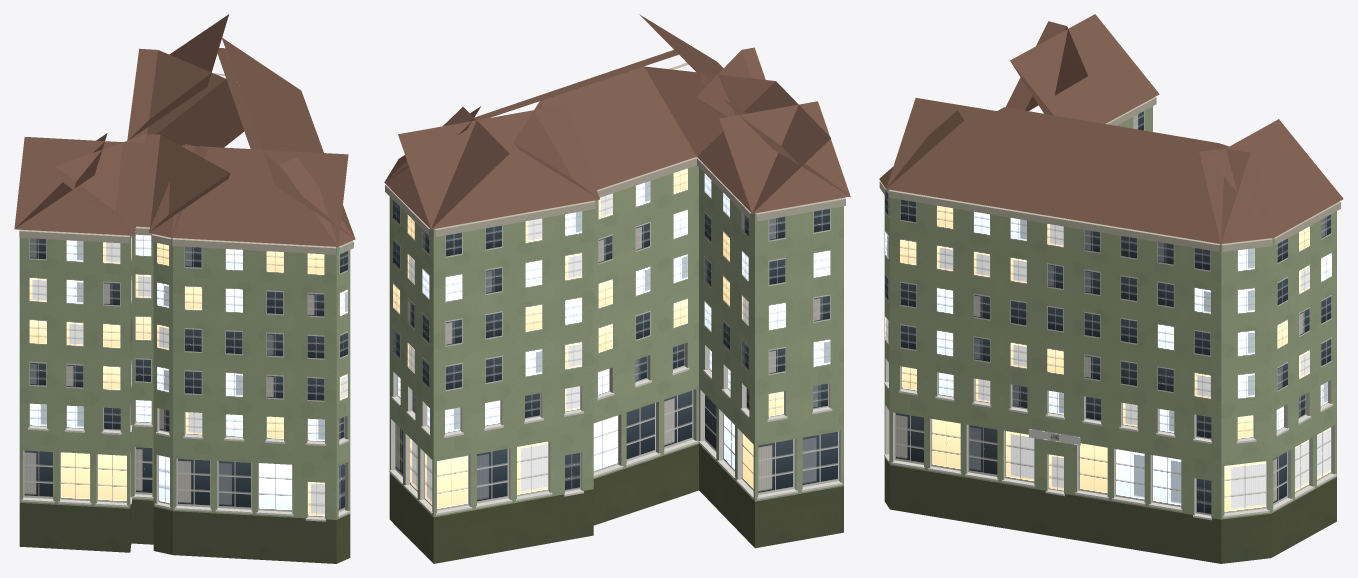
Rendered from langB_gambrinus.glb.
3 views of the same model, side by side, from view 1: azimuth 30°, elevation 25°; view 2: azimuth 150°, elevation 25°; view 3: azimuth 270°, elevation 25° (orthographic). The views are drawn at different scales.
Parts seen in each view (by area): view 1: langB_gambrinus; view 2: langB_gambrinus; view 3: langB_gambrinus.
Boxes of the visible parts, x1=… form: langB_gambrinus: x1=14, y1=14, x2=355, y2=563; langB_gambrinus: x1=384, y1=14, x2=850, y2=563; langB_gambrinus: x1=879, y1=14, x2=1343, y2=563.
Size of the model in its own units: 25.51 by 25.77 by 28.47.
Materials: 3 (3 with a texture image).
